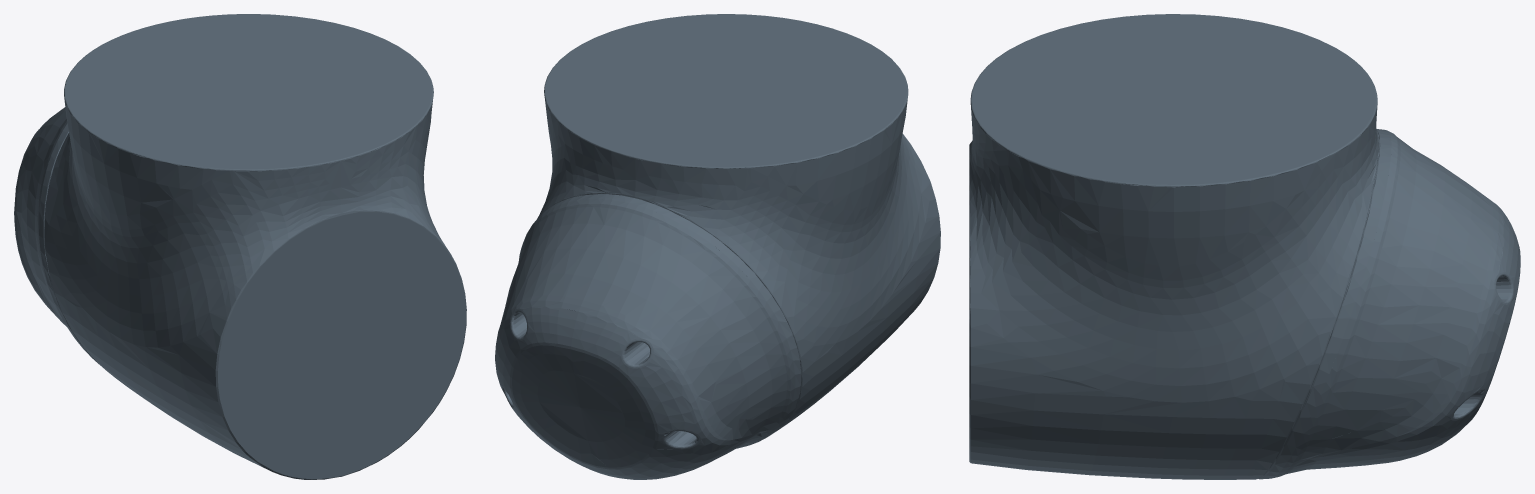
3 renders of one model, left to right at view 1: azimuth 30°, elevation 25°; view 2: azimuth 150°, elevation 25°; view 3: azimuth 270°, elevation 25°, orthographic. The views are drawn at different scales.
Parts seen in each view (by area): view 1: A0509_3_1; view 2: A0509_3_1; view 3: A0509_3_1.
Part boxes in pixels (x1=…): A0509_3_1: x1=14, y1=14, x2=466, y2=479; A0509_3_1: x1=495, y1=14, x2=940, y2=479; A0509_3_1: x1=969, y1=14, x2=1520, y2=479.
Bounding box in the file's own units: 116 × 157 × 114.
